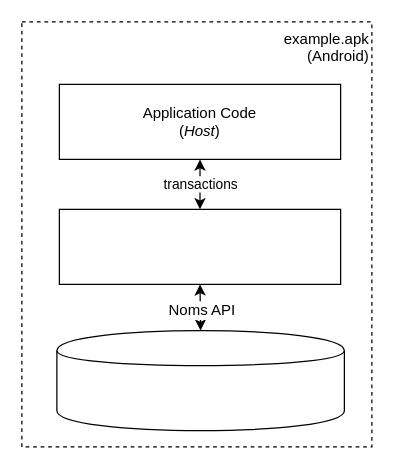
Image size: 394x469. Some labels were removed from this diagram. Each missing label, with the box of its shape:
Noms: (56, 329, 344, 431)
Replicant Protocol Implementation: (58, 208, 341, 284)
